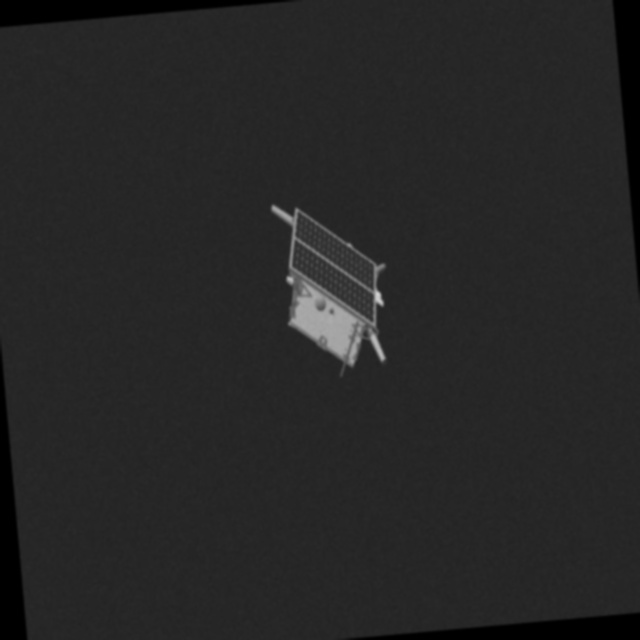medium_debris: (251, 187, 406, 391)
